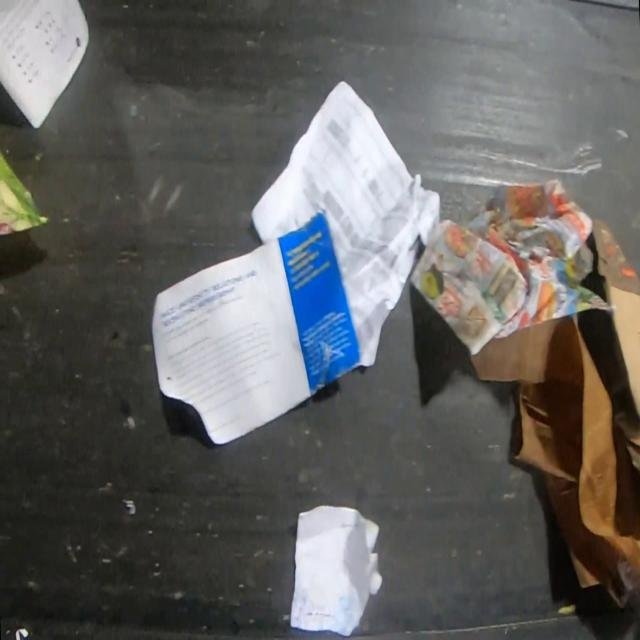cardboard: (470, 316, 640, 587), (591, 216, 640, 468)
soft_plastic: (0, 145, 51, 241)
